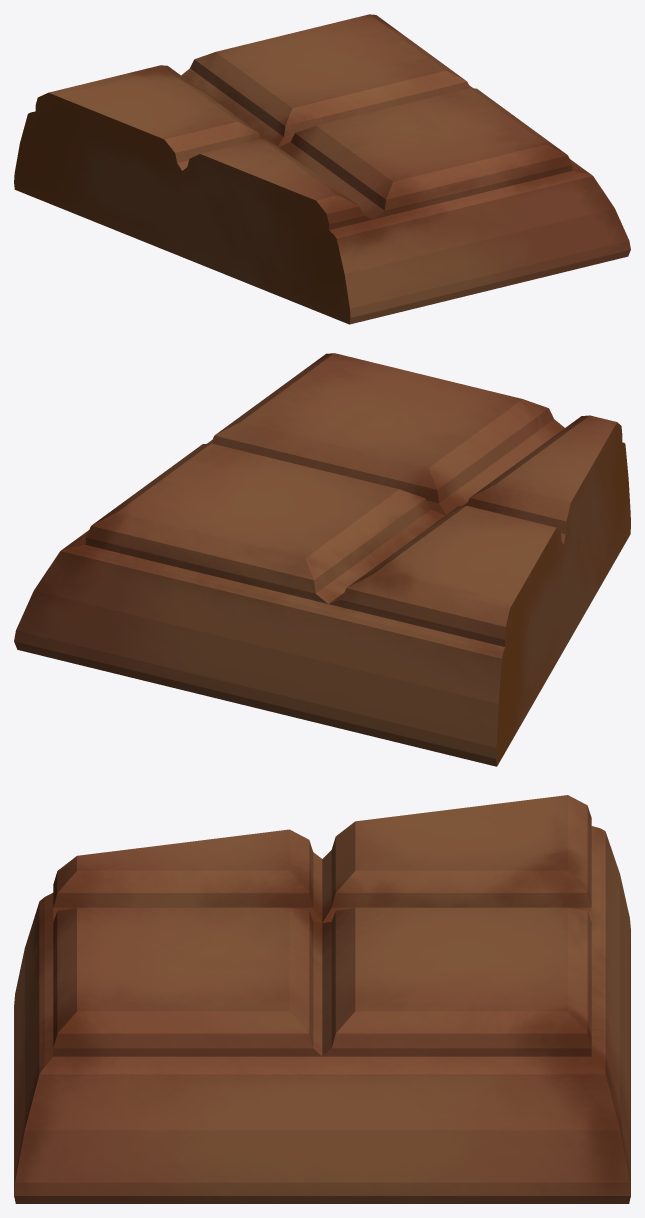
The model's file is Ingrediente_ChocolateMitad_R.fbx.
3 views of the same model, one above another, from view 1: azimuth 30°, elevation 25°; view 2: azimuth 150°, elevation 25°; view 3: azimuth 270°, elevation 25° (orthographic). The views are drawn at different scales.
Visible parts, largest first — view 1: m_ChocolateMitad_02; view 2: m_ChocolateMitad_02; view 3: m_ChocolateMitad_02.
Boxes of the visible parts, box(x1,y1,x2,y2) form: m_ChocolateMitad_02: box(14, 14, 630, 324); m_ChocolateMitad_02: box(14, 353, 630, 766); m_ChocolateMitad_02: box(14, 795, 630, 1203).
Size of the model in its own units: 27.47 by 7.36 by 26.97.
